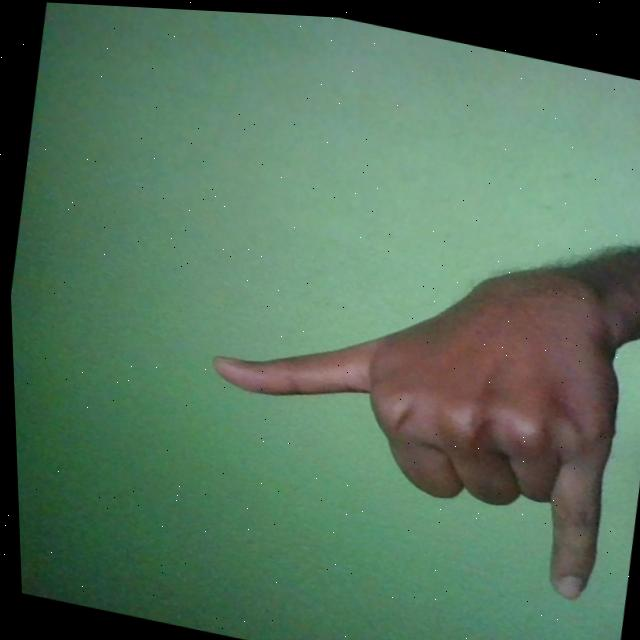Call Me: (177, 185, 640, 601)
